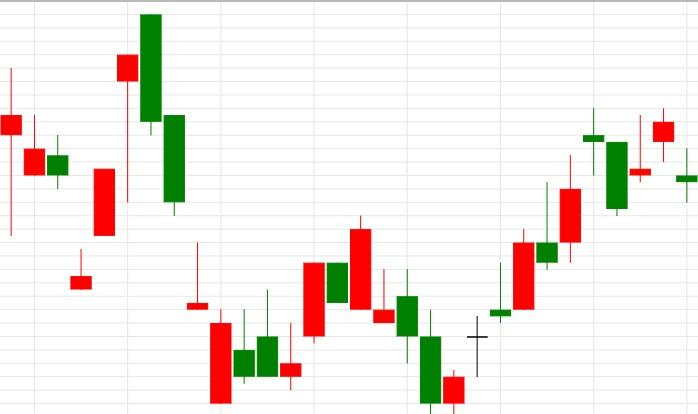evening_star_fall: (443, 108, 628, 414)
inverse_hammer_rise: (141, 14, 255, 404)
